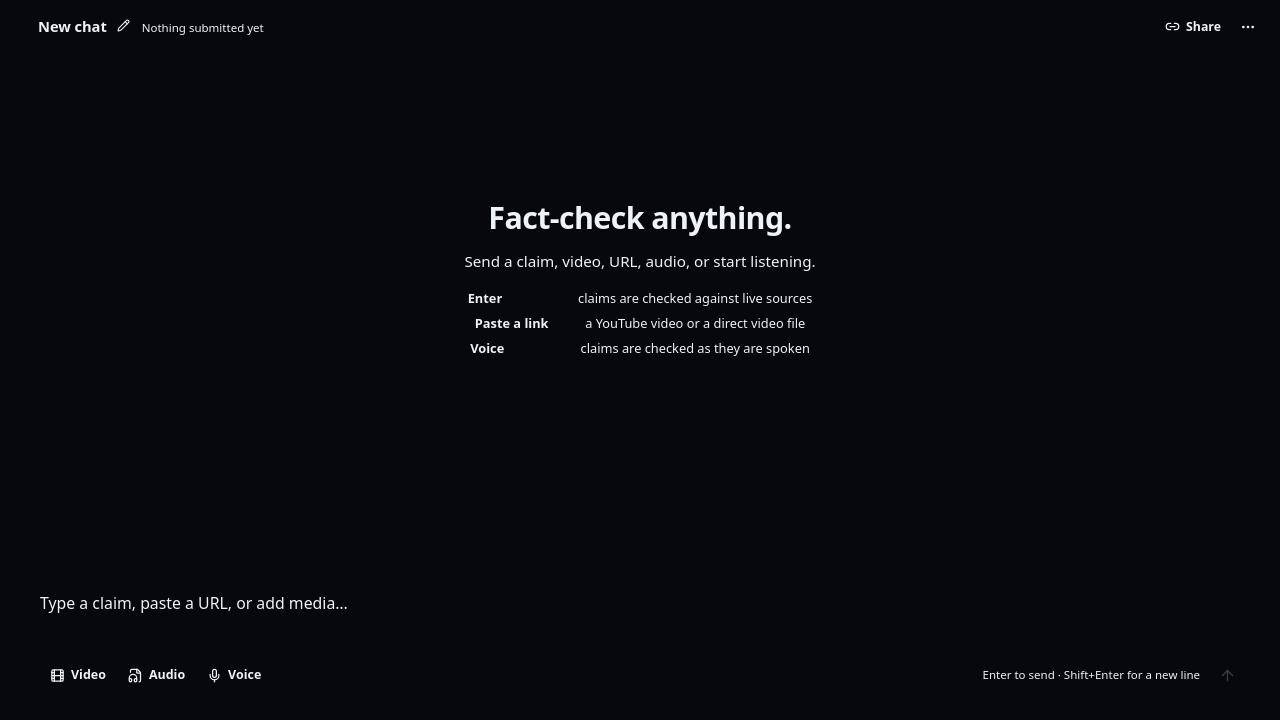
the conversation › collapses every detail behind a row, and keeps it reachable
(page scrolled)
Type "India won the 2011 Cricket World Cup." into the text box.
click(642, 617); type("India won the 2011 Cricket World Cup.")  # box 40,589 -> 1244,644
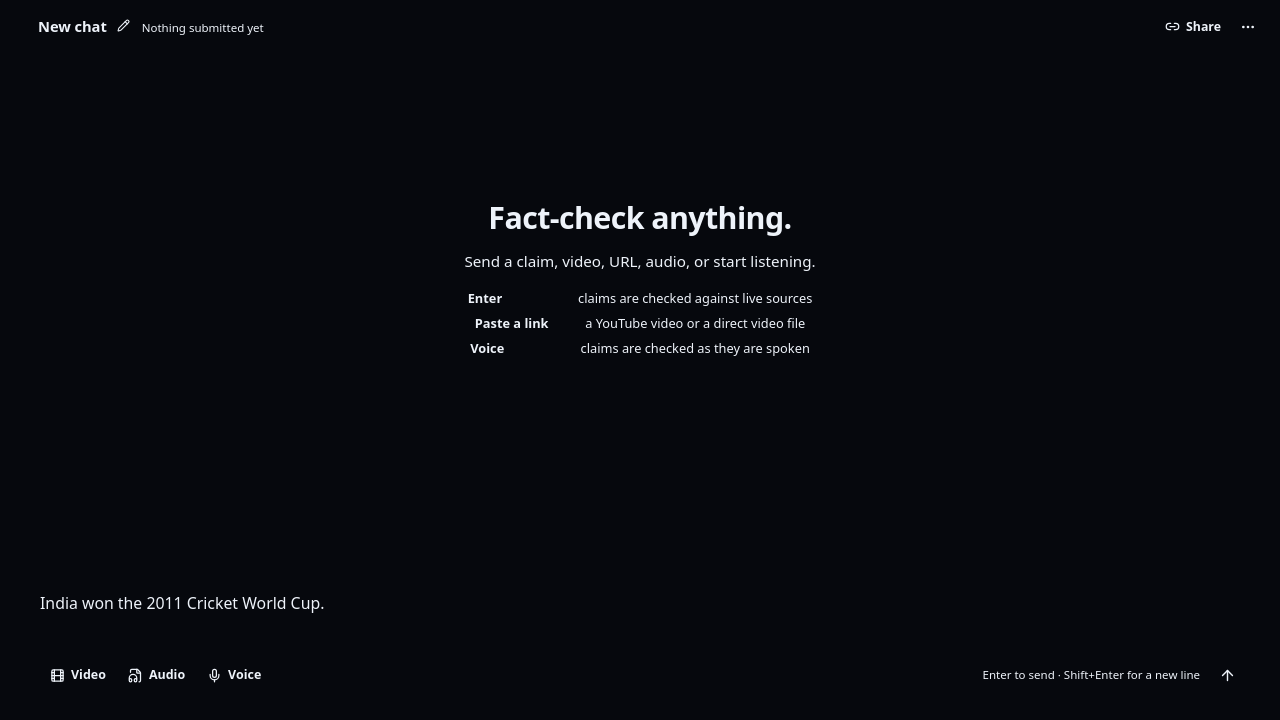
Click the button named "send".
click(1227, 675)  # box 1210,658 -> 1244,692
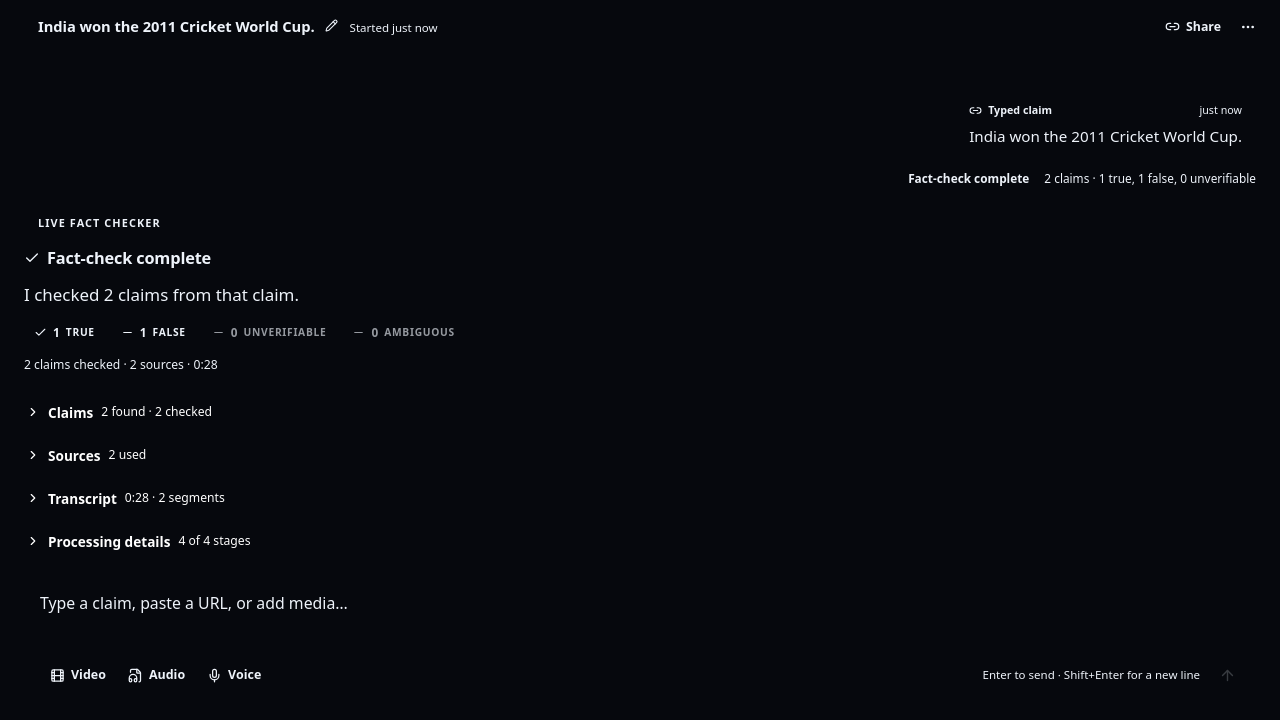
Click the button "Claims 2 found · 2 checked".
click(71, 412)  # box 24,391 -> 1256,434
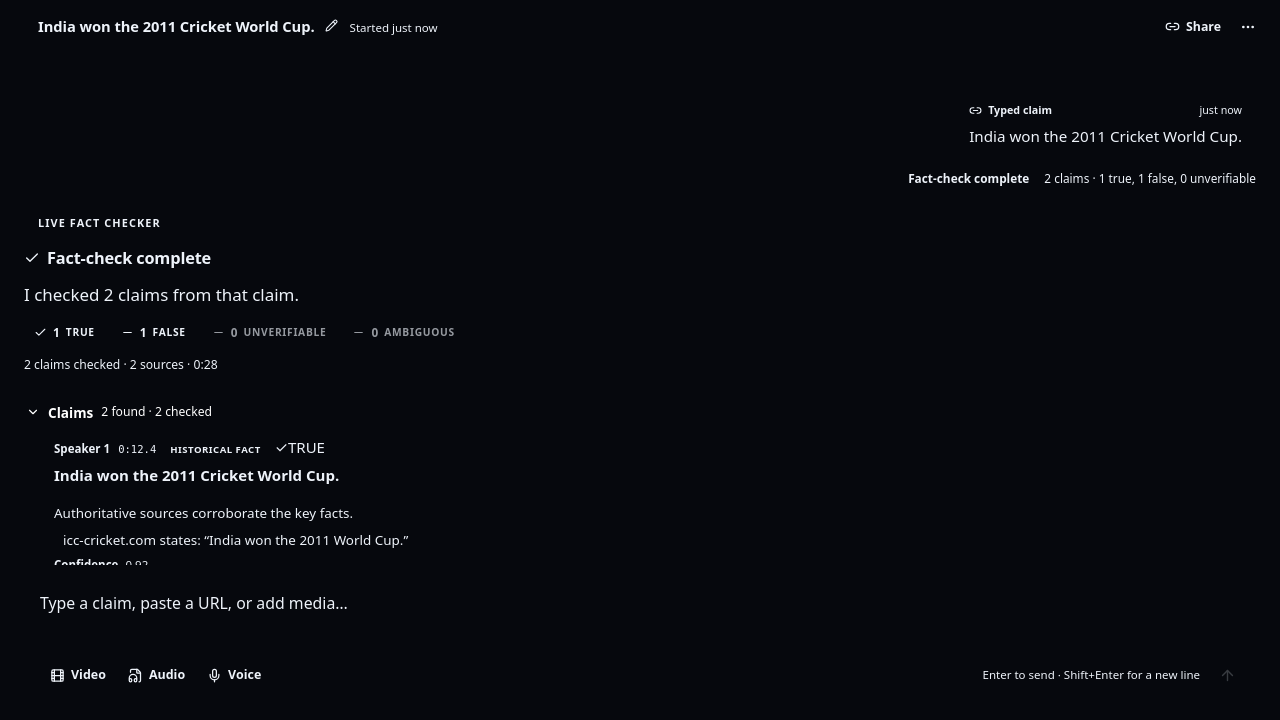
Now the button "Claims 2 found · 2 checked" is expanded, box 24,391 -> 1256,434
